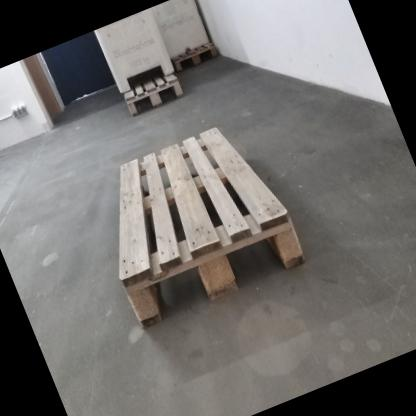BoxFace: (113, 120, 310, 334)
